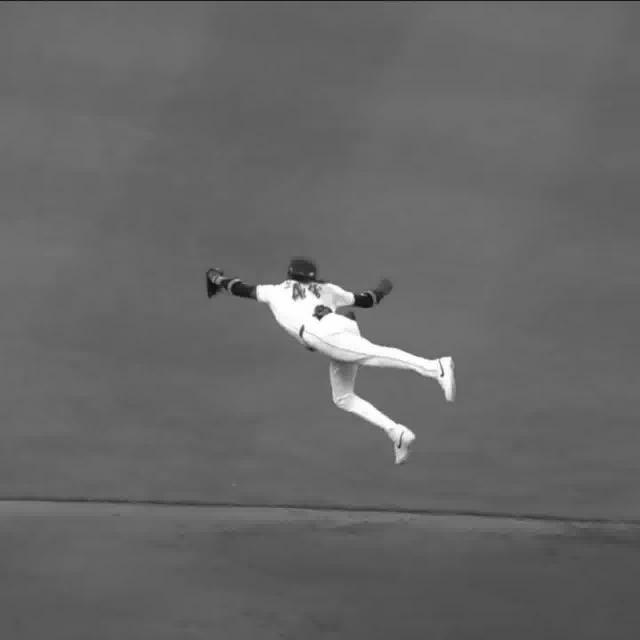baseball_glove: (199, 264, 230, 301)
shoe: (433, 354, 459, 406), (392, 427, 418, 465)
